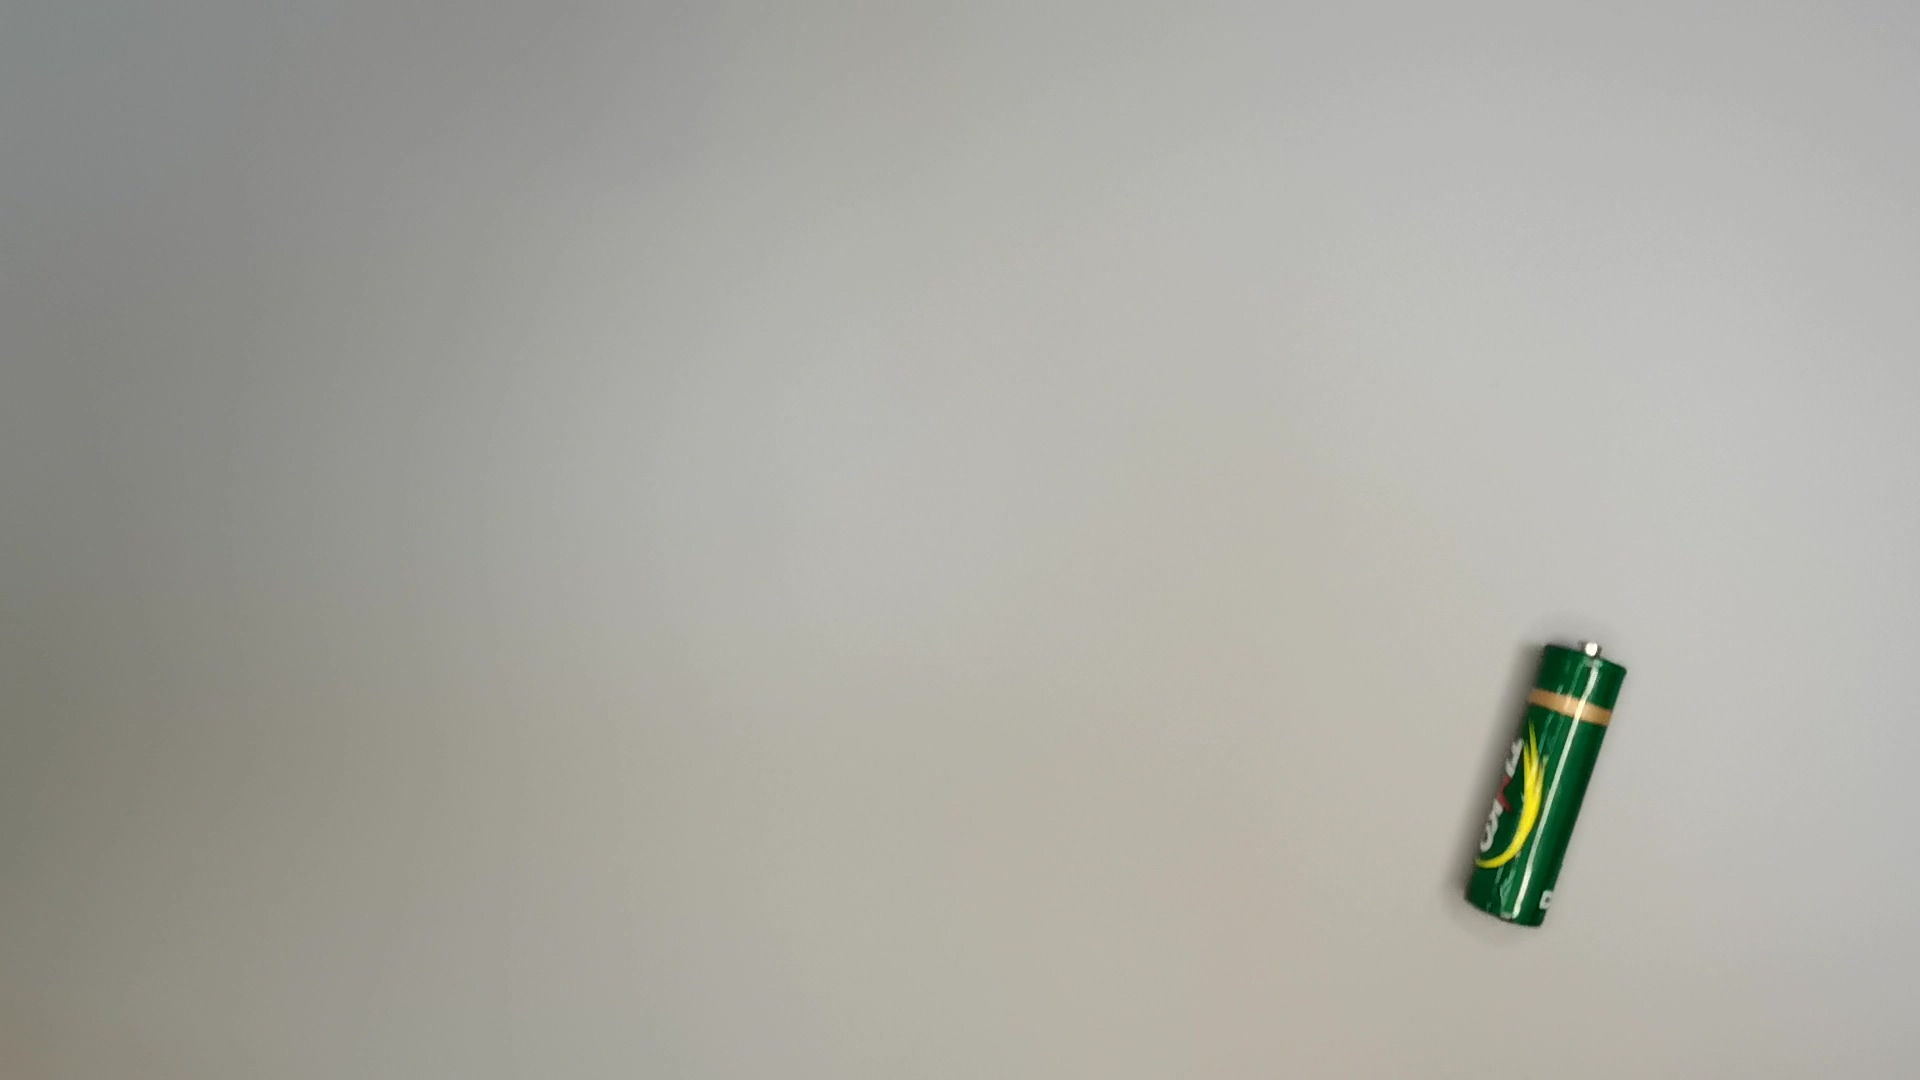battery: (1469, 638, 1638, 938)
